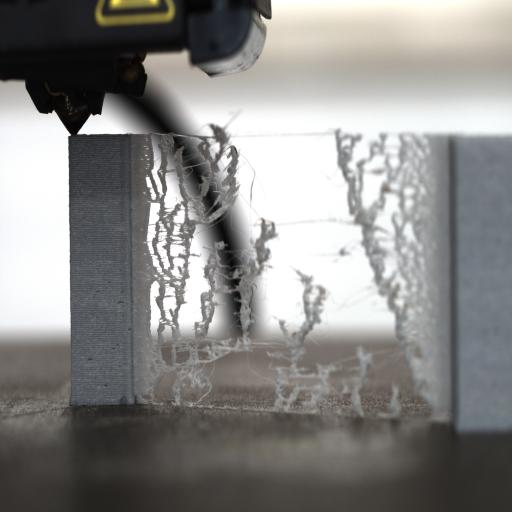stringing: (135, 115, 276, 397), (327, 128, 443, 414)
